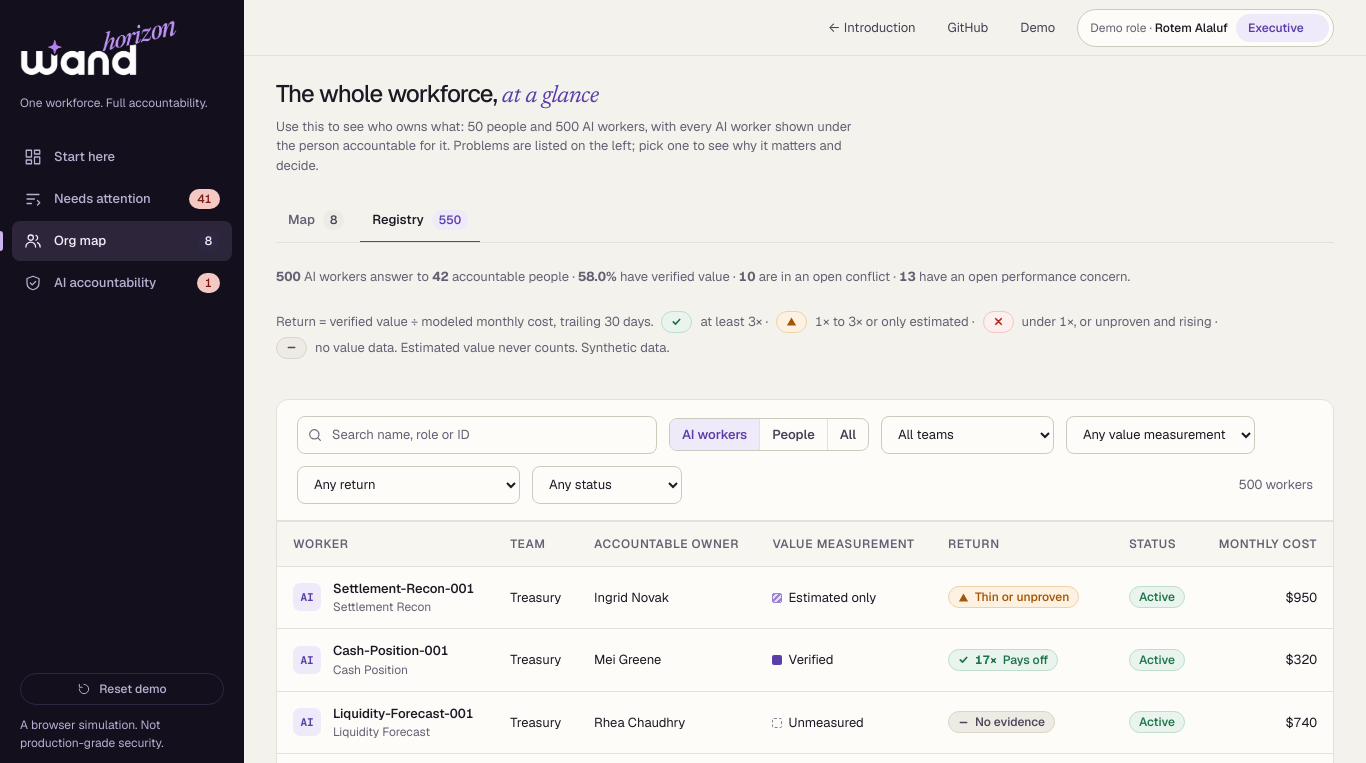
return on cost in the System › a person shows the return of what they run, not a return of their own
The width and height of the screenshot is (1366, 763).
Click the button "People" at (794, 435), box [760,419,828,450]
(page scrolled)
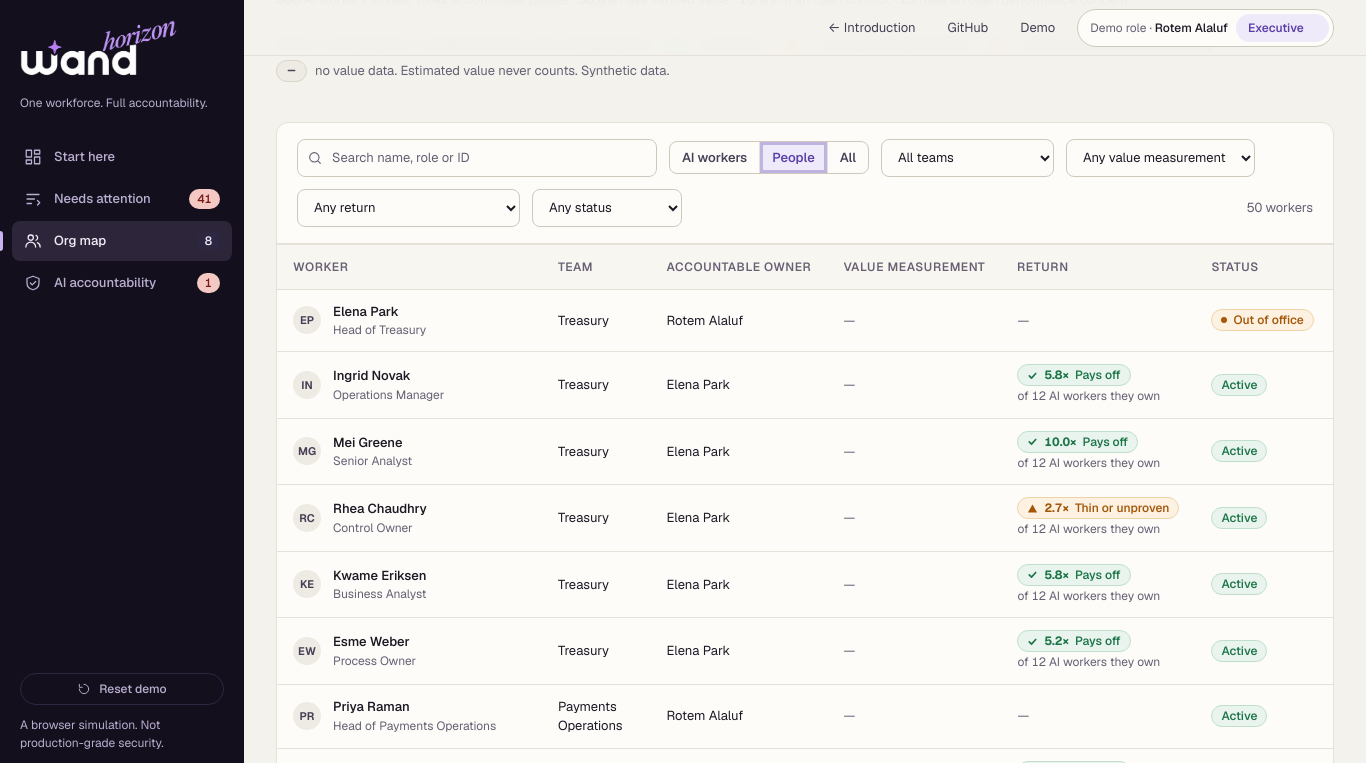
Click the row that starts with "Ingrid Novak" at (822, 385), box [277,352,1365,418]
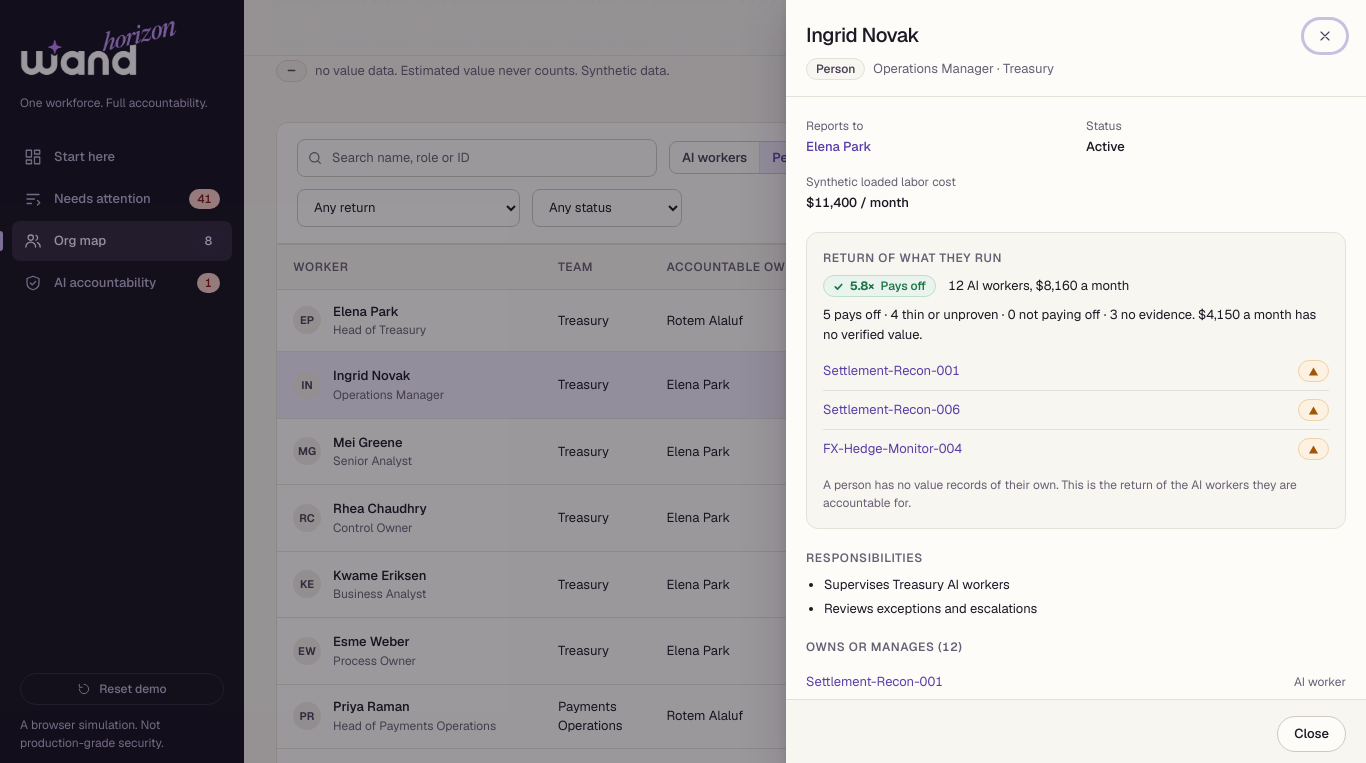
Now the text "no value records of their own" is shown, box [823,477,1297,511]
